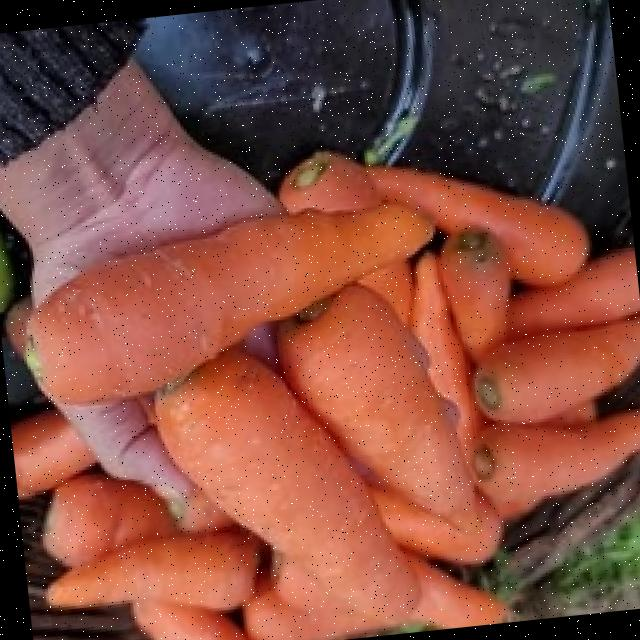carrot: (15, 157, 640, 640)
